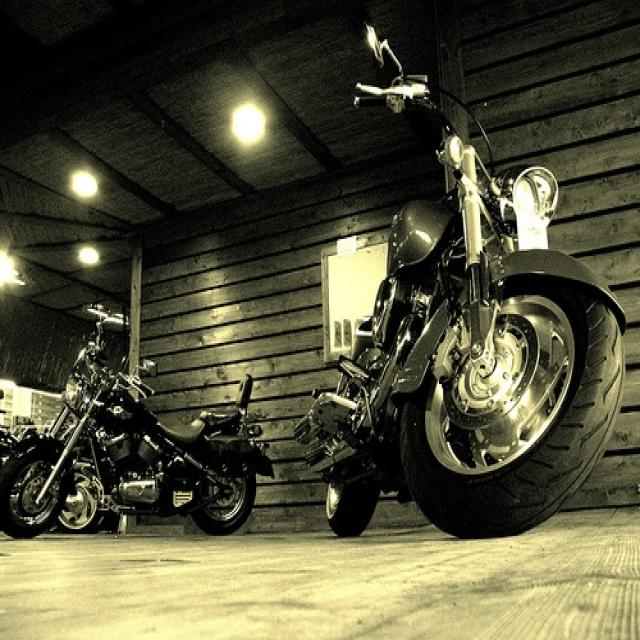motorbike: (294, 20, 626, 538), (1, 305, 274, 536)
